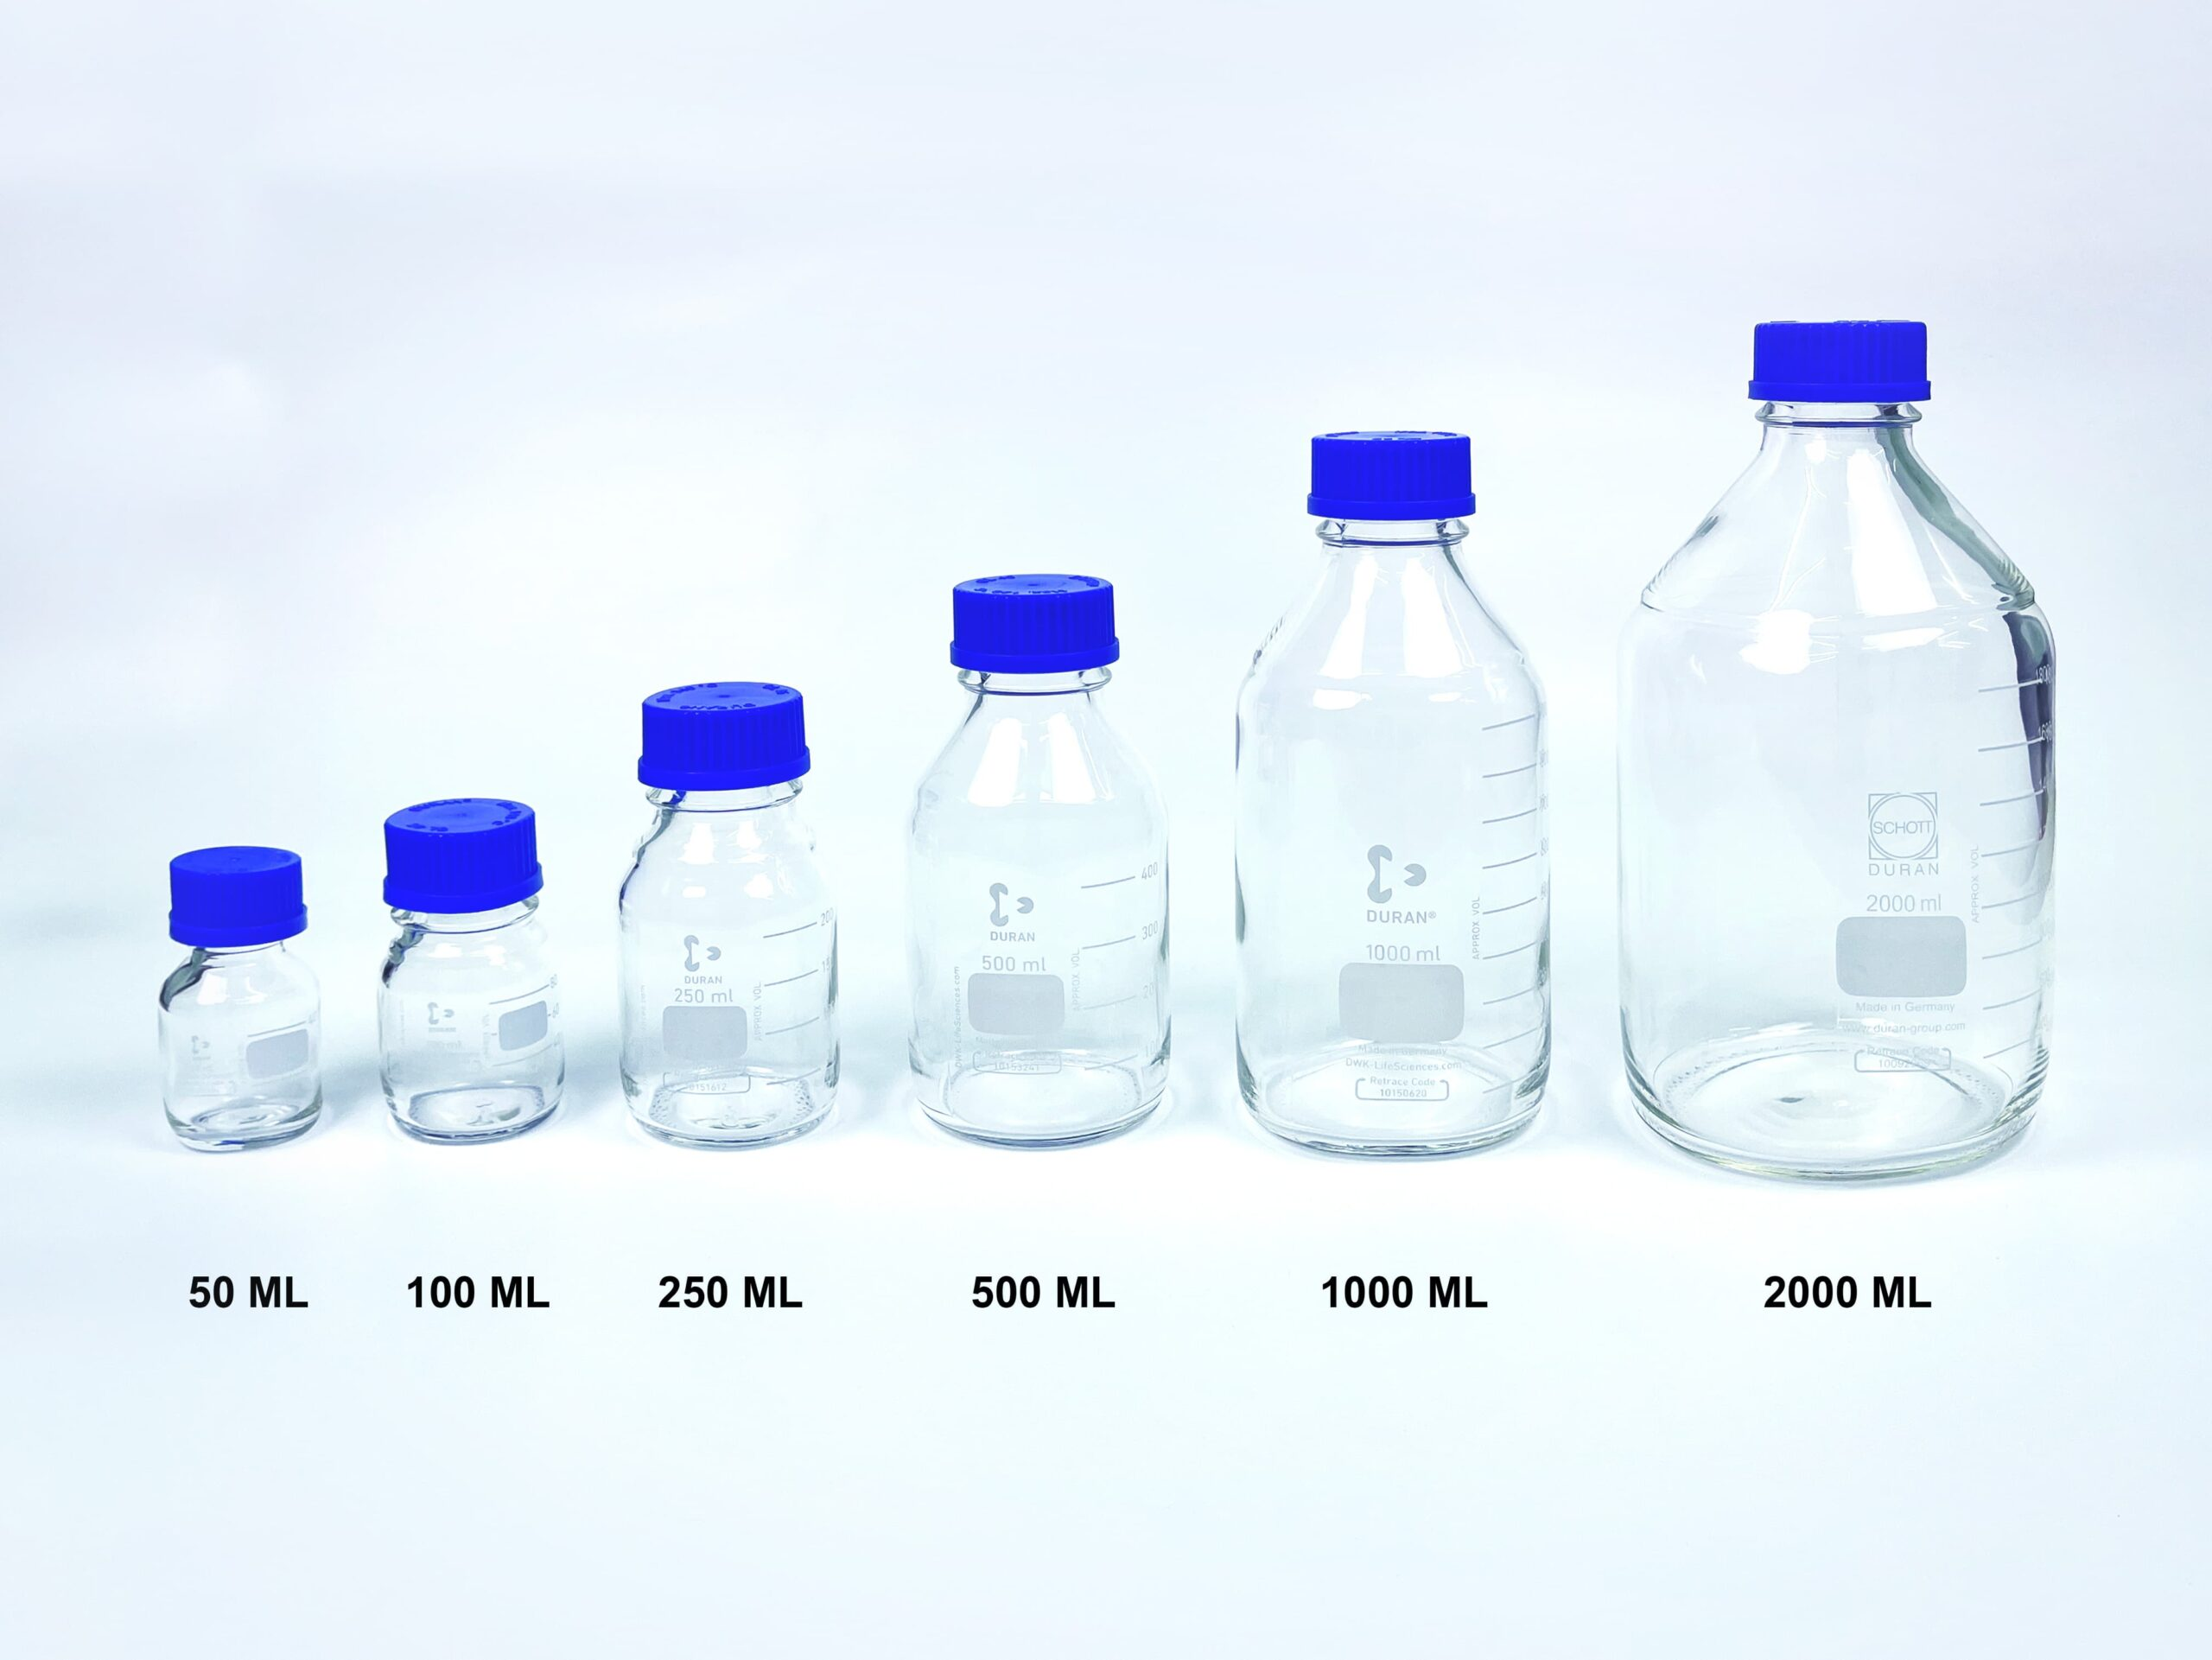glass_bottle: (1605, 298, 2076, 1194), (1222, 412, 1576, 1175), (903, 554, 1189, 1165), (603, 671, 852, 1167), (366, 785, 582, 1156), (139, 839, 338, 1167)
